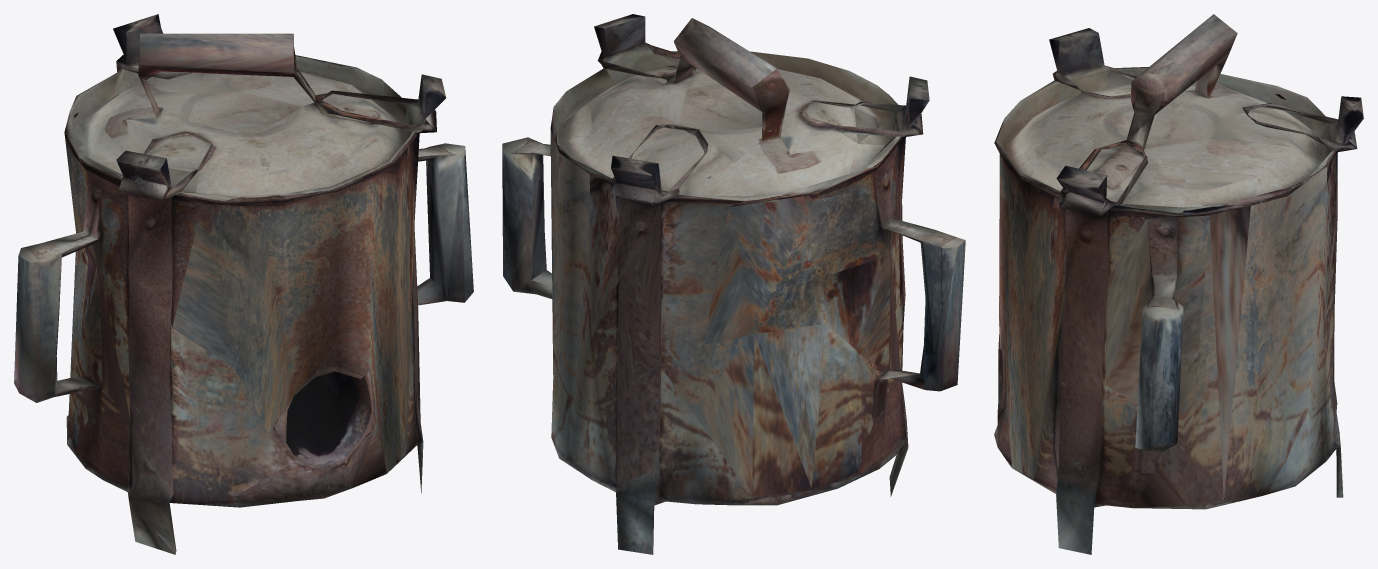
File: 3DModel_Custom.fbx
3 views of the same model, side by side, from view 1: azimuth 30°, elevation 25°; view 2: azimuth 150°, elevation 25°; view 3: azimuth 270°, elevation 25° (orthographic). The views are drawn at different scales.
Parts seen in each view (by area): view 1: 3DModel_Custom; view 2: 3DModel_Custom; view 3: 3DModel_Custom.
Part boxes in pixels (x1=…): 3DModel_Custom: x1=14, y1=14, x2=473, y2=554; 3DModel_Custom: x1=502, y1=14, x2=965, y2=554; 3DModel_Custom: x1=994, y1=14, x2=1363, y2=554.
Size of the model in its own units: 69.25 by 66.59 by 50.69.
Materials: 1 (1 with a texture image).
